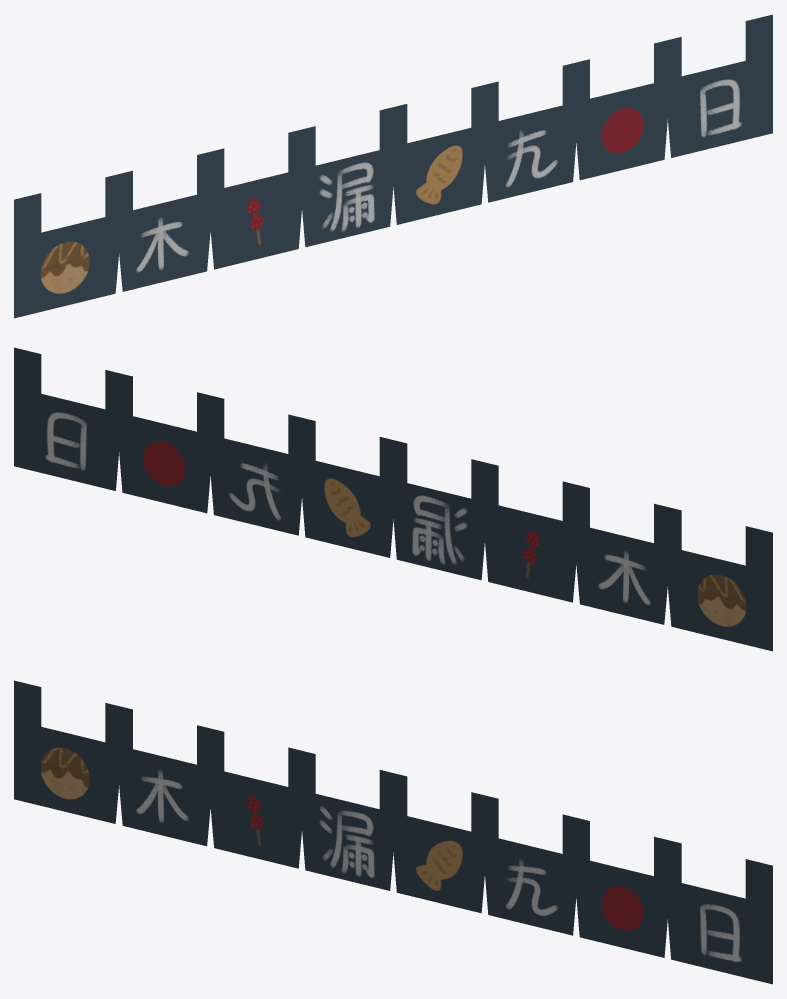
Rendered from Noren.obj.
3 views of the same model, one above another, from view 1: azimuth 30°, elevation 25°; view 2: azimuth 150°, elevation 25°; view 3: azimuth 330°, elevation 25° (orthographic).
Visible parts, largest first — view 1: Noren_NorenSG; view 2: Noren_NorenSG; view 3: Noren_NorenSG.
Boxes of the visible parts, x1=… form: Noren_NorenSG: x1=14, y1=14, x2=772, y2=318; Noren_NorenSG: x1=14, y1=347, x2=772, y2=651; Noren_NorenSG: x1=14, y1=680, x2=772, y2=984.
Size of the model in its own units: 32.28 by 4.83 by 0.
Materials: 1 (1 with a texture image).
